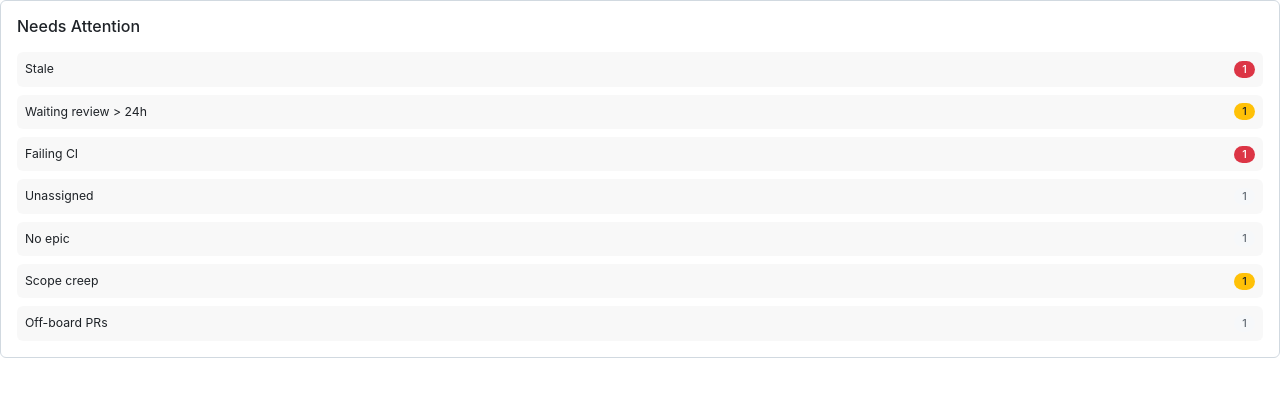
Scenario: NeedsAttentionPanel › formats PR refs correctly
The image size is (1280, 414).
Click the text "Waiting review > 24h": (640, 112) top-left (17, 95), bottom-right (1263, 129)
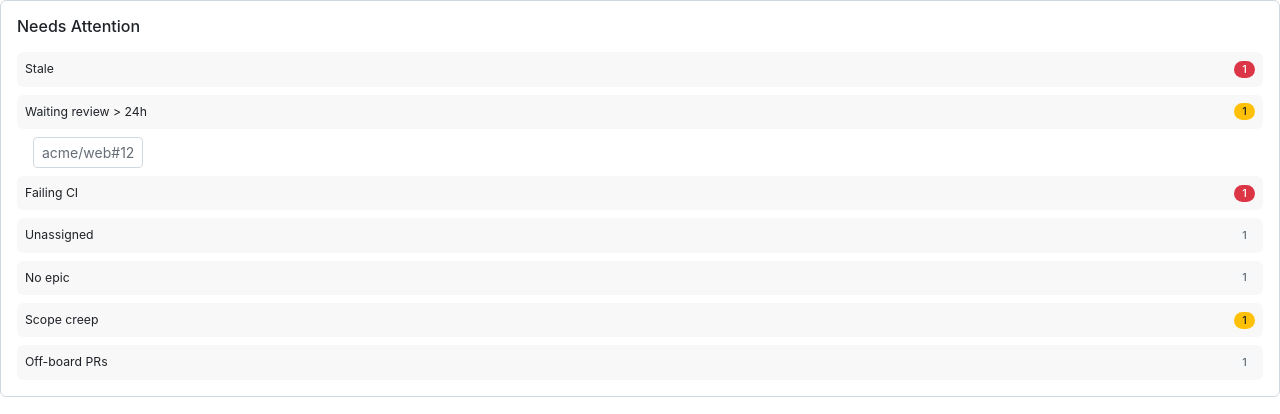
Check: the button "acme/web#12" is shown, box top-left (33, 137), bottom-right (143, 168)
